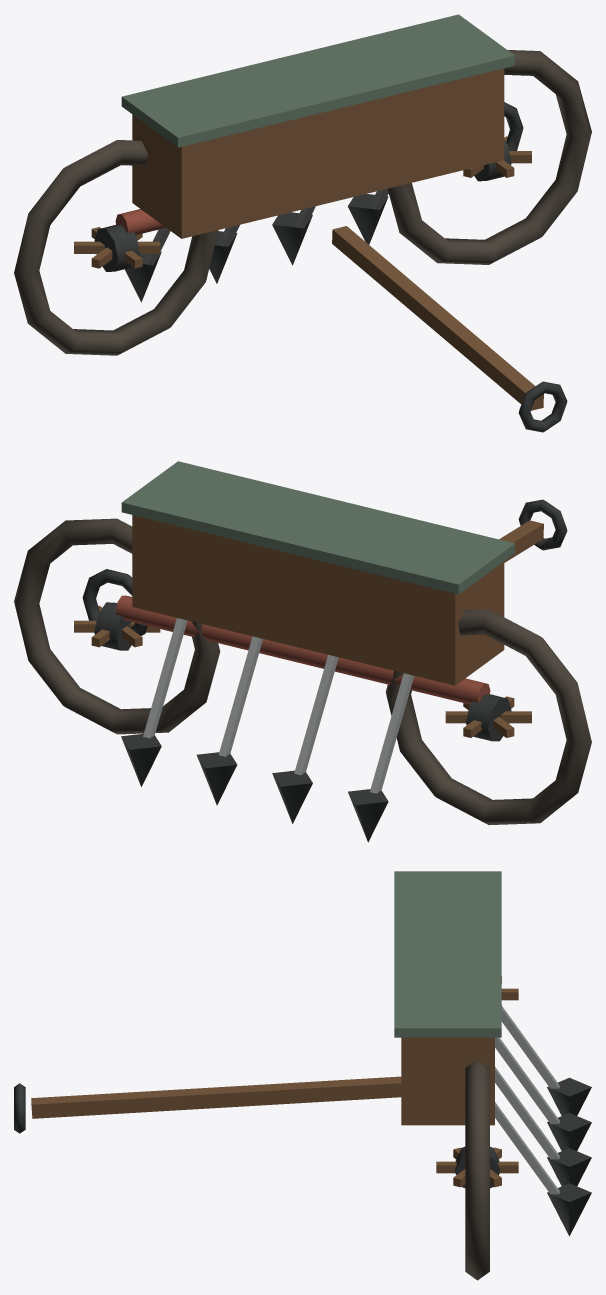
The model's file is Seed-Drill.glb.
The picture shows the model from 3 angles, top to bottom: view 1: azimuth 30°, elevation 25°; view 2: azimuth 150°, elevation 25°; view 3: azimuth 270°, elevation 25°; orthographic projection. The views are drawn at different scales.
Visible parts, largest first — view 1: seed-drill-static-seed-drill-timber-mat, seed-drill-static-seed-drill-paint-mat, seed-drill-static-seed-drill-wheel-mat, seed-drill-static-seed-drill-iron-mat, seed-drill-static-seed-drill-steel-mat, seed-drill-static-seed-drill-accent-mat; view 2: seed-drill-static-seed-drill-timber-mat, seed-drill-static-seed-drill-wheel-mat, seed-drill-static-seed-drill-paint-mat, seed-drill-static-seed-drill-iron-mat, seed-drill-static-seed-drill-steel-mat, seed-drill-static-seed-drill-accent-mat; view 3: seed-drill-static-seed-drill-paint-mat, seed-drill-static-seed-drill-timber-mat, seed-drill-static-seed-drill-iron-mat, seed-drill-static-seed-drill-wheel-mat, seed-drill-static-seed-drill-steel-mat.
Boxes of the visible parts, box(x1,y1,x2,y2) form: seed-drill-static-seed-drill-timber-mat: box(74, 68, 543, 410); seed-drill-static-seed-drill-paint-mat: box(121, 14, 514, 147); seed-drill-static-seed-drill-wheel-mat: box(14, 50, 591, 355); seed-drill-static-seed-drill-iron-mat: box(94, 102, 567, 432); seed-drill-static-seed-drill-steel-mat: box(143, 189, 388, 265); seed-drill-static-seed-drill-accent-mat: box(115, 209, 165, 234); seed-drill-static-seed-drill-timber-mat: box(74, 515, 543, 737); seed-drill-static-seed-drill-wheel-mat: box(14, 518, 591, 825); seed-drill-static-seed-drill-paint-mat: box(121, 461, 514, 594); seed-drill-static-seed-drill-iron-mat: box(82, 499, 567, 842); seed-drill-static-seed-drill-steel-mat: box(143, 618, 414, 793); seed-drill-static-seed-drill-accent-mat: box(115, 595, 490, 704); seed-drill-static-seed-drill-paint-mat: box(394, 871, 501, 1037); seed-drill-static-seed-drill-timber-mat: box(31, 976, 518, 1187); seed-drill-static-seed-drill-iron-mat: box(14, 1077, 591, 1236); seed-drill-static-seed-drill-wheel-mat: box(465, 1060, 489, 1280); seed-drill-static-seed-drill-steel-mat: box(495, 1006, 559, 1194).
Bounding box in the file's own units: 3.67 × 1.49 × 3.33.
